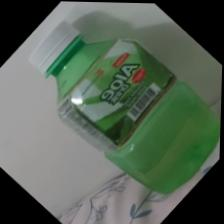plastic: (0, 1, 223, 223)
